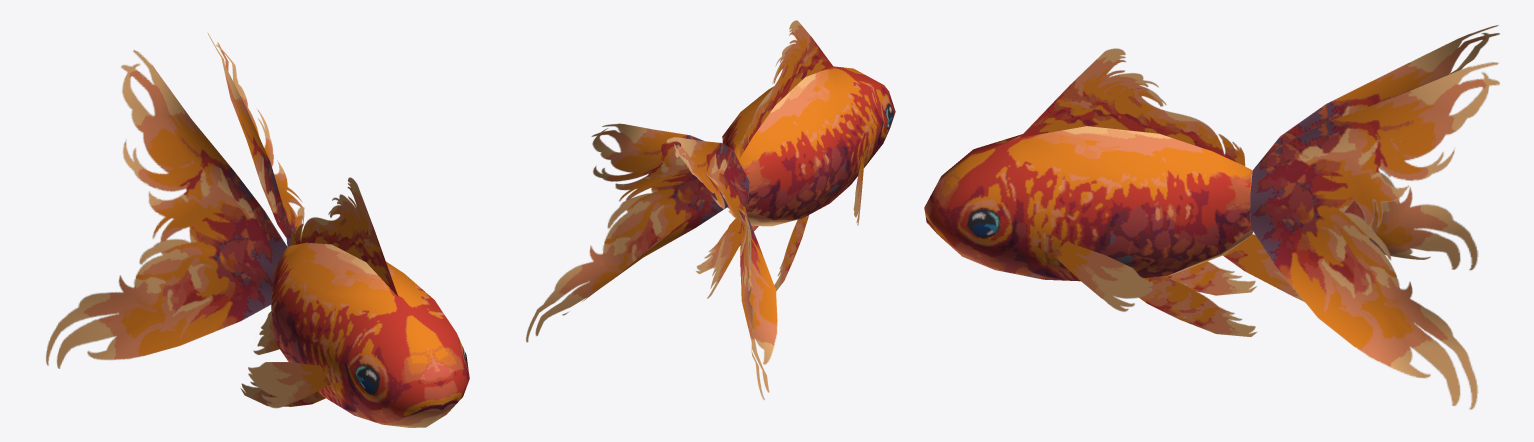
Rendered from goldfish.glb.
3 views of the same model, side by side, from view 1: azimuth 30°, elevation 25°; view 2: azimuth 150°, elevation 25°; view 3: azimuth 270°, elevation 25° (orthographic). The views are drawn at different scales.
Parts seen in each view (by area): view 1: Cube; view 2: Cube; view 3: Cube.
Boxes of the visible parts, x1,y1,x2,y2 form: Cube: (45, 32, 469, 427); Cube: (526, 20, 895, 400); Cube: (924, 25, 1500, 409).
Bounding box in the file's own units: 0.9726 × 0.9742 × 1.63.
Materials: 1 (1 with a texture image).
